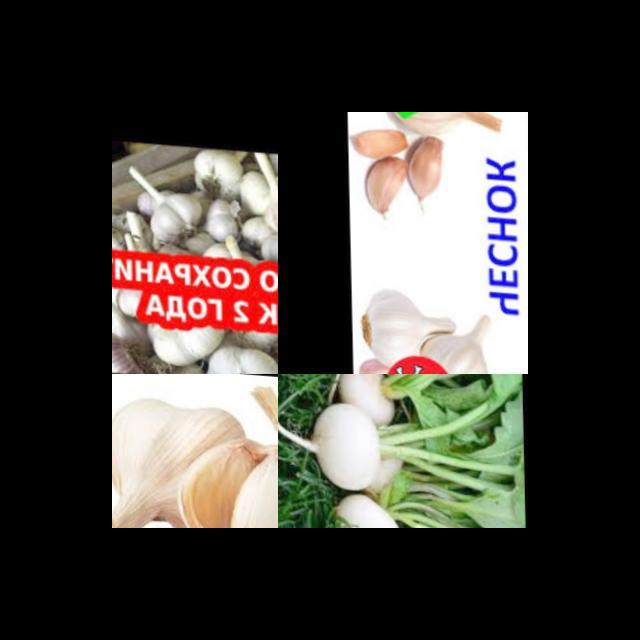garlic: (112, 137, 278, 269), (112, 387, 241, 528), (164, 374, 278, 528), (112, 277, 278, 374), (354, 272, 460, 368), (421, 302, 492, 374), (354, 146, 409, 220), (409, 121, 452, 213), (386, 112, 513, 143), (352, 118, 416, 162), (354, 357, 411, 374)
